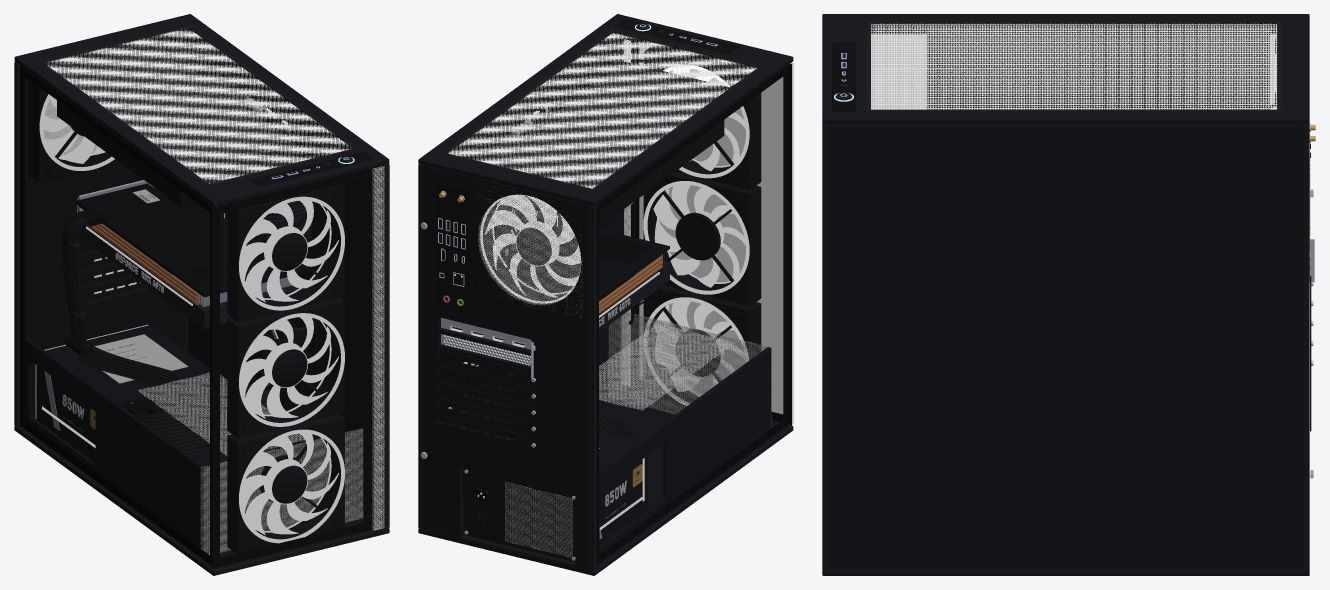
The model's file is pc-parts.glb.
3 views of the same model, side by side, from view 1: azimuth 30°, elevation 25°; view 2: azimuth 150°, elevation 25°; view 3: azimuth 270°, elevation 25° (orthographic). The views are drawn at different scales.
Parts seen in each view (by area): view 1: Glass_Side, Case_Front_Glass, Case_Top_Filter, Case_Rear, Case_Shroud_Side, Case_Top, Case_Tray, AIO_Rad_Core, Case_Front_Frit, GPU_Backplate, Case_Bottom, PSU_Body (+40 smaller); view 2: Glass_Side, Case_Rear, Case_Top_Filter, Case_Shroud_Side, Case_Top, Case_Front_Glass, PSU_Body, AIO_Rad_Core, Case_Rear_Fan_Grill, Case_Shroud_Front_Vent, Case, Case_Shroud_Vent (+36 smaller); view 3: Case_Right, Case_Top_Filter, Case_Top, AIO_Rad_Core, AIO_Rad_Side_R, Case_Top_Filter_Rim, Case_Pillar_BR, Case_Pillar_FR, Case_Bottom, Glass_Side, Case_TopIO_Plate, AIO_Rad_Tank_Front (+1 smaller).
Part boxes in pixels (box(x1,y1,x2,y2)): Glass_Side: box(17, 65, 211, 567); Case_Front_Glass: box(212, 169, 373, 569); Case_Top_Filter: box(47, 29, 351, 183); Case_Rear: box(25, 33, 188, 419); Case_Shroud_Side: box(25, 336, 203, 550); Case_Top: box(14, 14, 389, 206); Case_Tray: box(184, 31, 380, 438); AIO_Rad_Core: box(59, 49, 284, 163); Case_Front_Frit: box(211, 168, 372, 568); GPU_Backplate: box(76, 183, 303, 297); Case_Bottom: box(14, 426, 389, 575); PSU_Body: box(36, 325, 220, 462); Glass_Side: box(597, 65, 790, 567); Case_Rear: box(423, 165, 590, 570); Case_Top_Filter: box(448, 33, 756, 188); Case_Shroud_Side: box(599, 347, 771, 554); Case_Top: box(418, 14, 793, 206); Case_Front_Glass: box(639, 47, 793, 424); PSU_Body: box(463, 431, 647, 561); AIO_Rad_Core: box(495, 69, 720, 183); Case_Rear_Fan_Grill: box(478, 187, 582, 317); Case_Shroud_Front_Vent: box(608, 312, 771, 427); Case: box(435, 83, 563, 451); Case_Shroud_Vent: box(599, 323, 735, 410); Case_Right: box(828, 124, 1303, 570); Case_Top_Filter: box(871, 23, 1277, 109); Case_Top: box(822, 14, 1309, 124); AIO_Rad_Core: box(947, 30, 1250, 94); AIO_Rad_Side_R: box(947, 94, 1249, 109); Case_Top_Filter_Rim: box(866, 20, 1281, 111); Case_Pillar_BR: box(1303, 124, 1309, 569); Case_Pillar_FR: box(822, 124, 828, 569); Case_Bottom: box(822, 569, 1309, 575); Glass_Side: box(871, 34, 1275, 109); Case_TopIO_Plate: box(832, 42, 855, 111); AIO_Rad_Tank_Front: box(927, 29, 946, 109).
Size of the model in its own units: 2.3 by 4.79 by 4.56.
88 materials, 3 textured.
